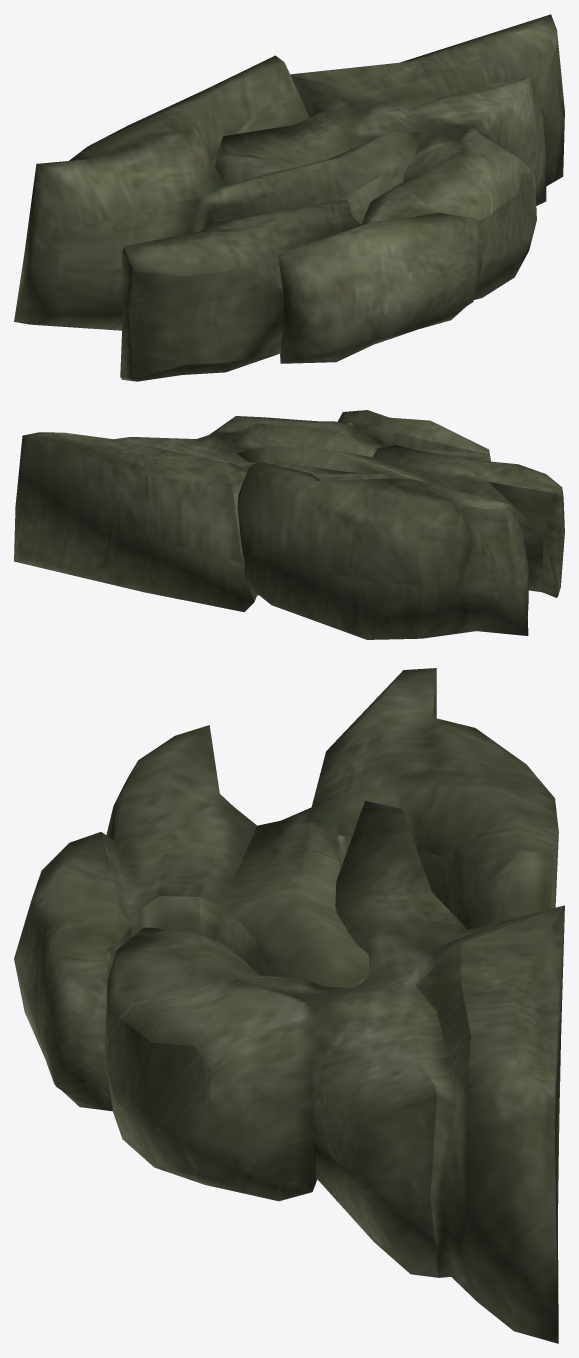
The model's file is military_sandbag_wet_endsection_right.glb.
3 views of the same model, one above another, from view 1: azimuth 30°, elevation 25°; view 2: azimuth 150°, elevation 25°; view 3: azimuth 270°, elevation 25° (orthographic). The views are drawn at different scales.
Bounding box in the file's own units: 60.03 × 18.09 × 31.99.
Materials: 1 (1 with a texture image).
